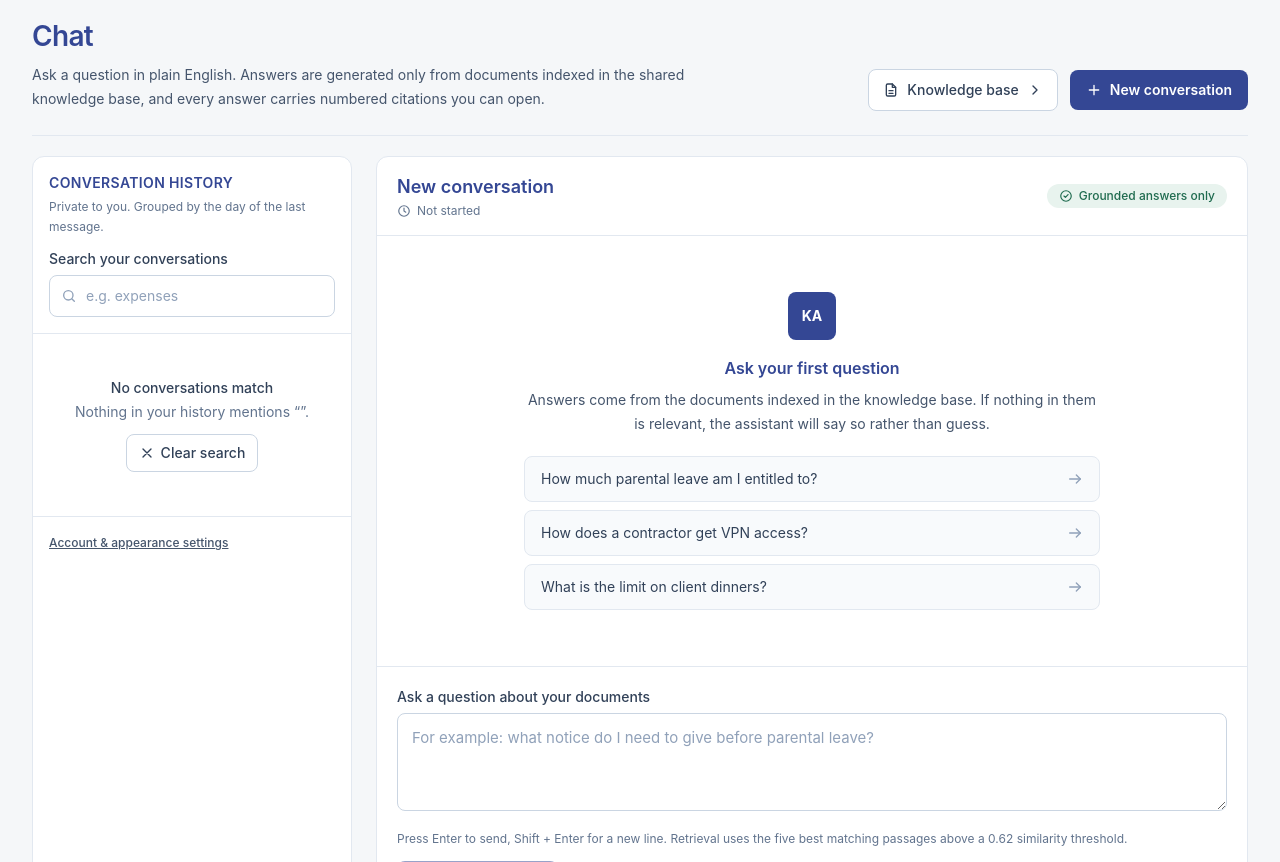
Test: Chat screen › AC-058: Stop aborts immediately, keeps the partial answer, clears streaming state and re-enables the composer
The width and height of the screenshot is (1280, 862).
Type "What is the VPN policy?" into the text box labelled "Ask a question about your documents" at (812, 762), box [397, 713, 1227, 811]
(page scrolled)
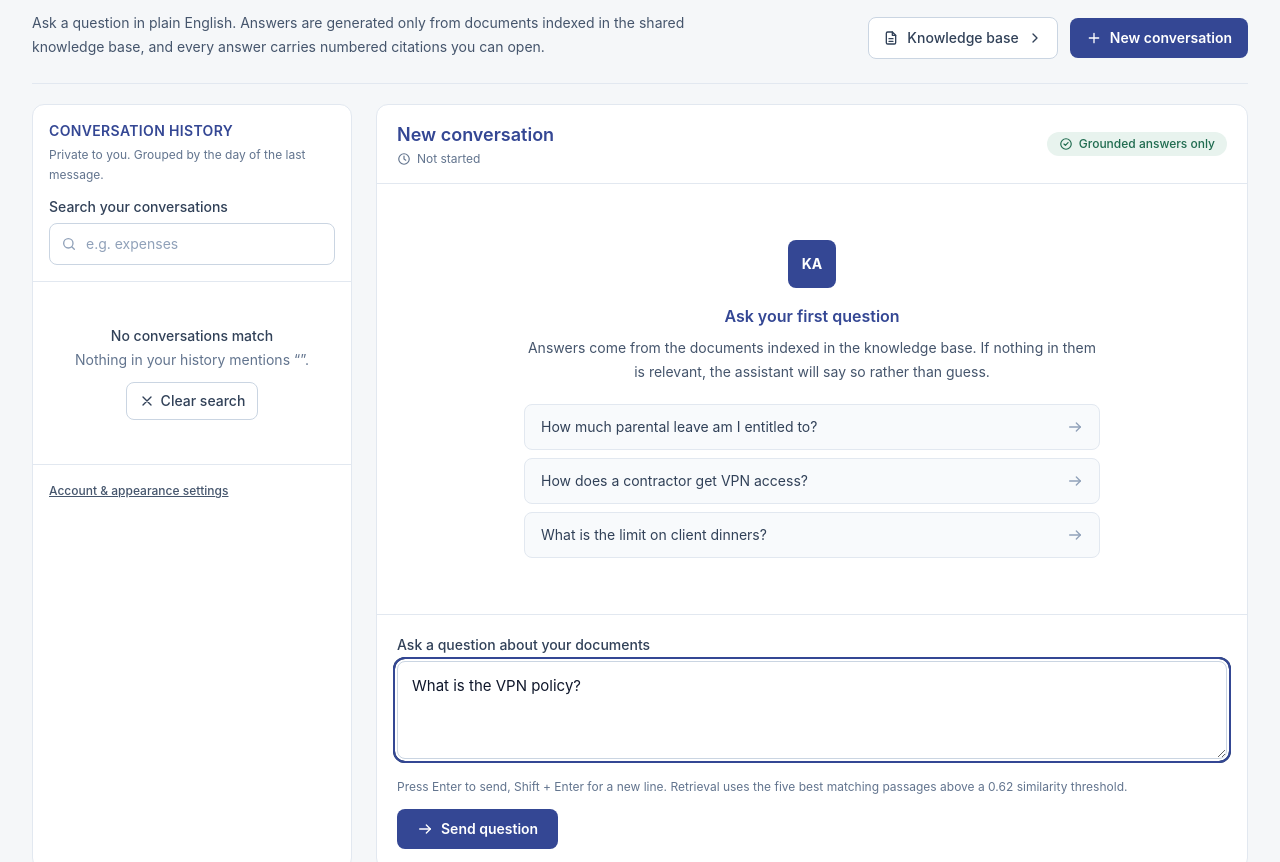
Click the button "Send question" at (478, 829), box [397, 809, 558, 849]
(page scrolled)
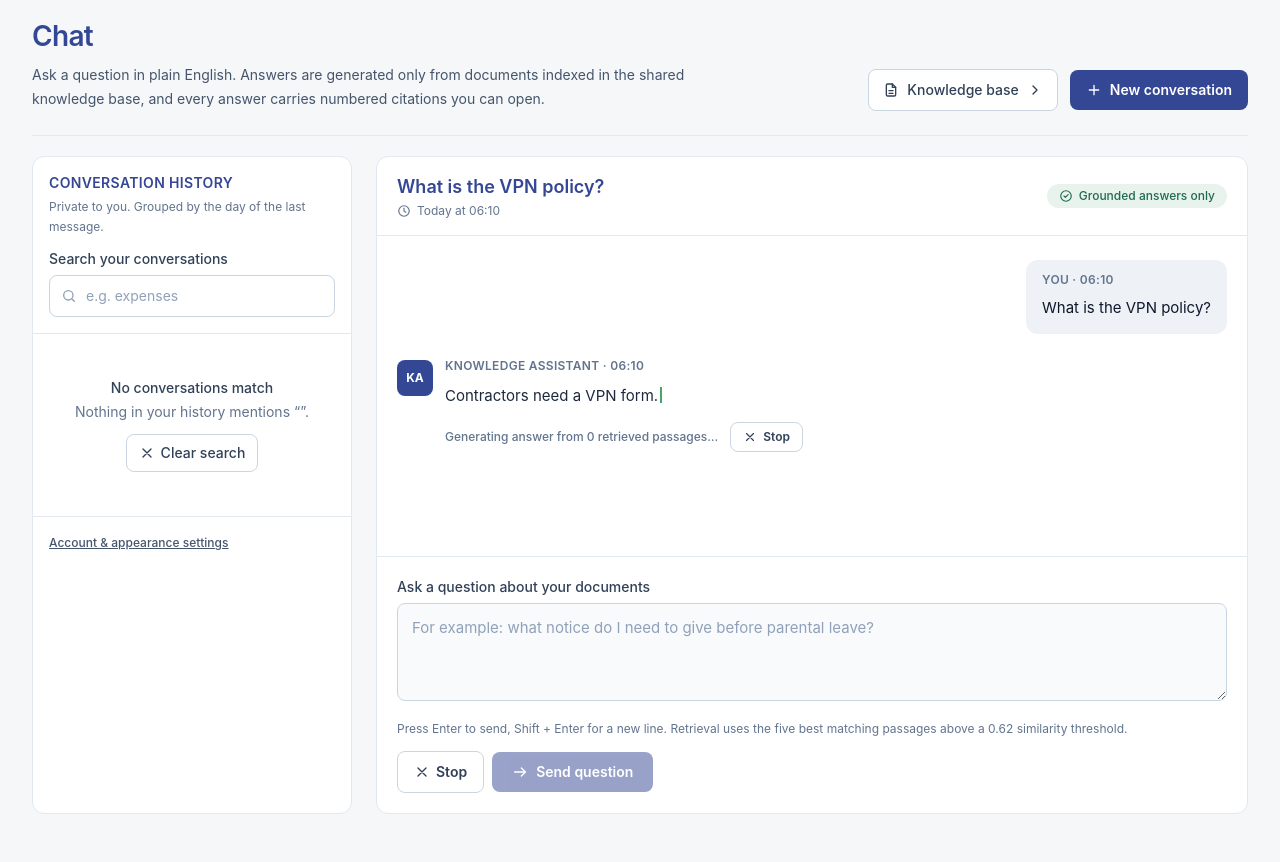
expect the text "Contractors need a VPN form." is shown: met, box [445, 386, 662, 405]
Click the button "Stop" below "Ask a question about your documents" at (441, 772), box [397, 751, 484, 793]
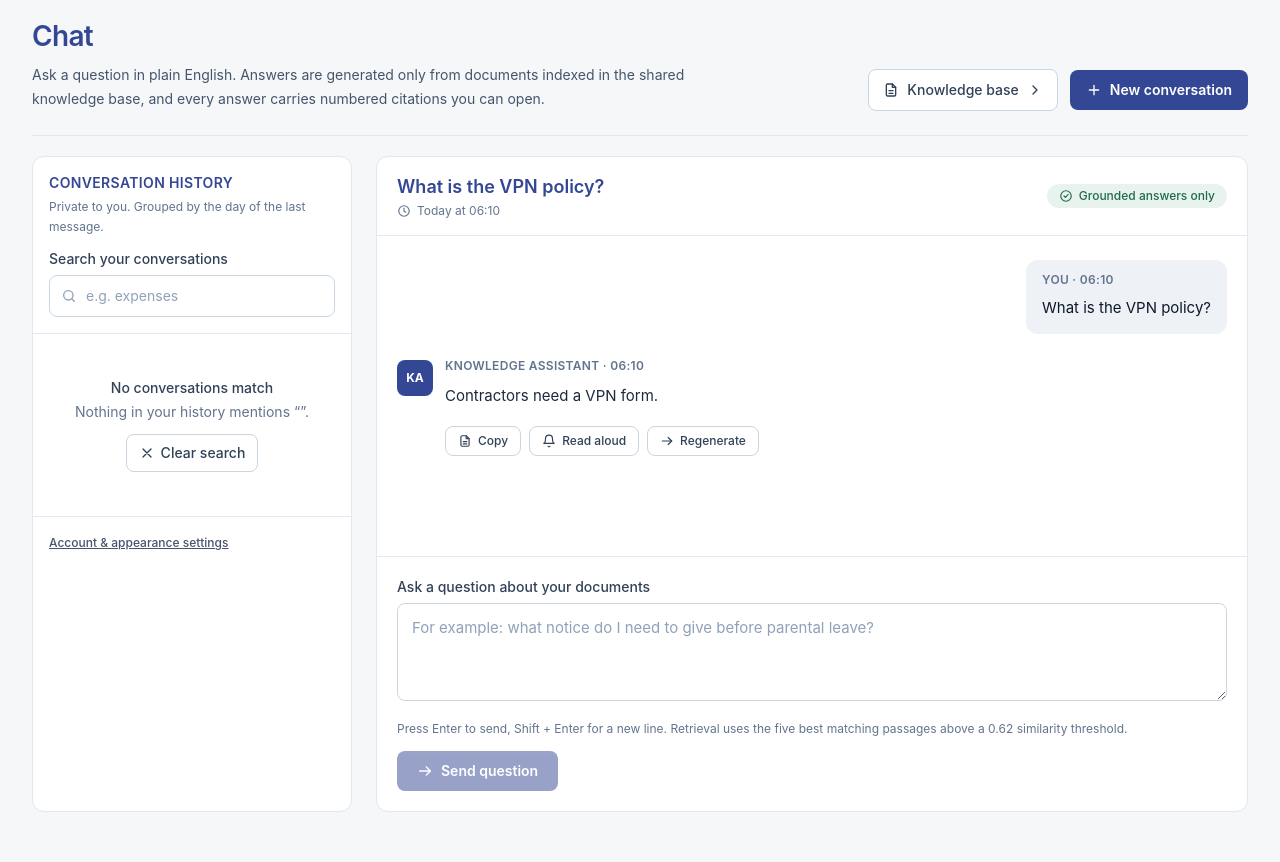
expect the text box labelled "Ask a question about your documents" is enabled: met, box [397, 603, 1227, 701]
expect the text "Contractors need a VPN form." is shown: met, box [445, 386, 658, 405]
expect the text "Generating answer" is gone: met
